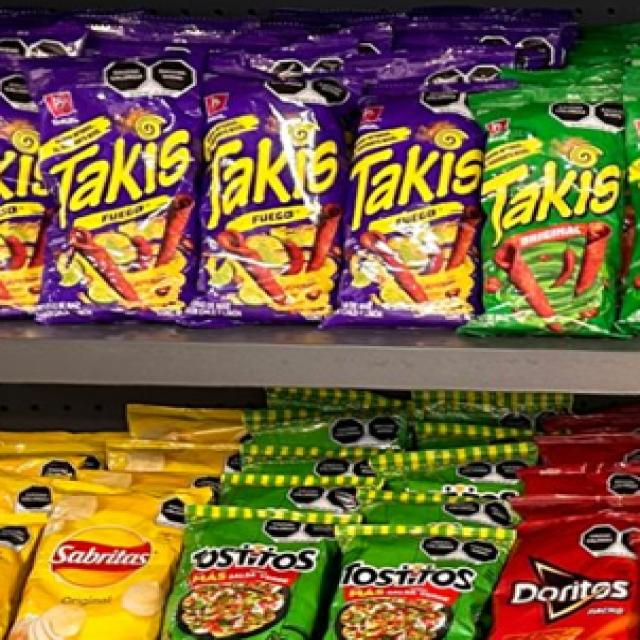doritosNacho: (510, 525, 633, 640)
sabritasOriginal: (42, 484, 162, 638)
takisFuego: (48, 72, 188, 324), (340, 70, 474, 326), (201, 70, 330, 328), (0, 76, 40, 314)
takisOriginal: (481, 90, 623, 332)
tostitos: (324, 520, 486, 640), (176, 512, 316, 640)
